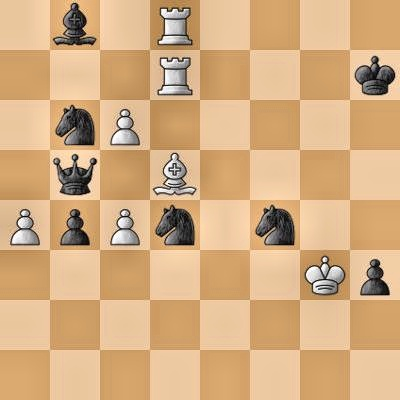black-bishop: (50, 0, 100, 50)
black-king: (350, 50, 400, 100)
black-knight: (50, 100, 100, 150), (150, 200, 200, 250), (250, 200, 300, 250)
black-pawn: (50, 200, 100, 250), (350, 250, 400, 300)
black-queen: (50, 150, 100, 200)
white-bishop: (150, 150, 200, 200)
white-king: (300, 250, 350, 300)
white-pawn: (100, 100, 150, 150), (0, 200, 50, 250), (100, 200, 150, 250)
white-rook: (150, 0, 200, 50), (150, 50, 200, 100)
